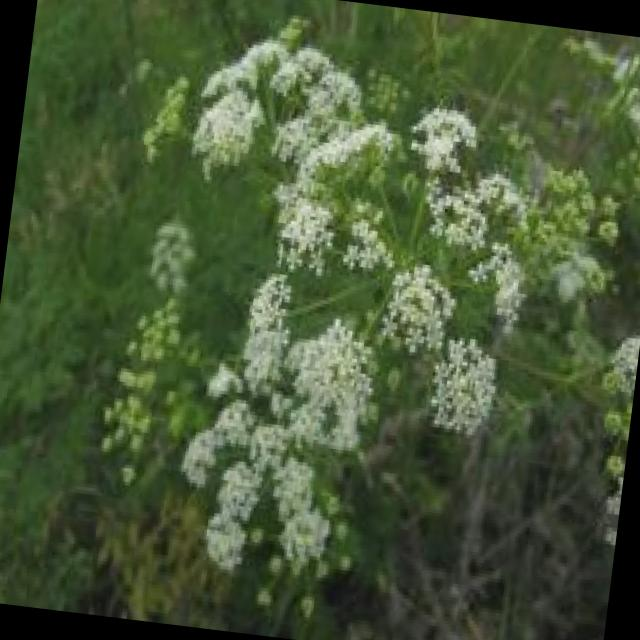Poisonous-Hemlock: (122, 31, 612, 608)
